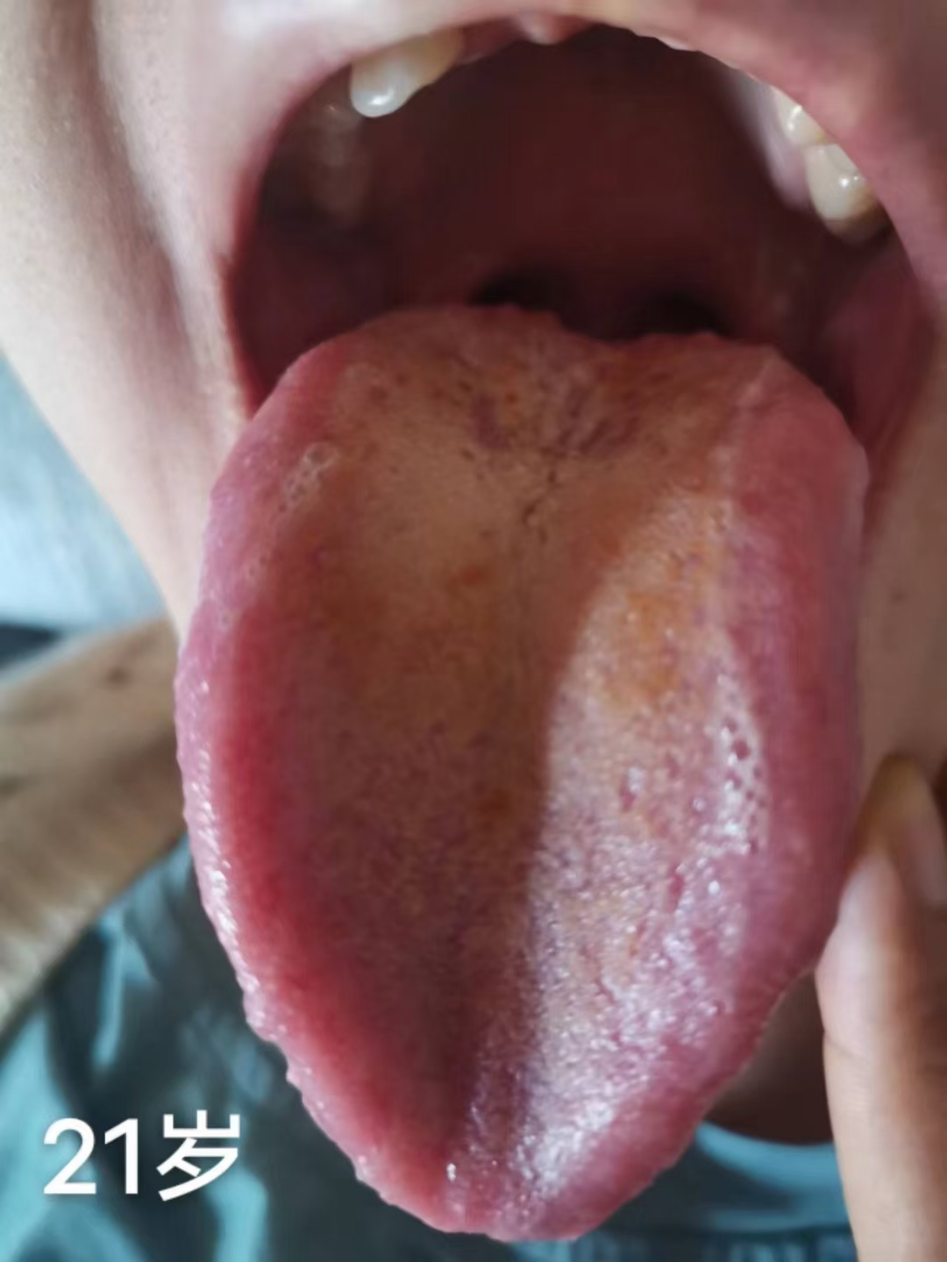hongshe: (173, 302, 866, 1244)
huangtaishe: (174, 303, 868, 1245)
